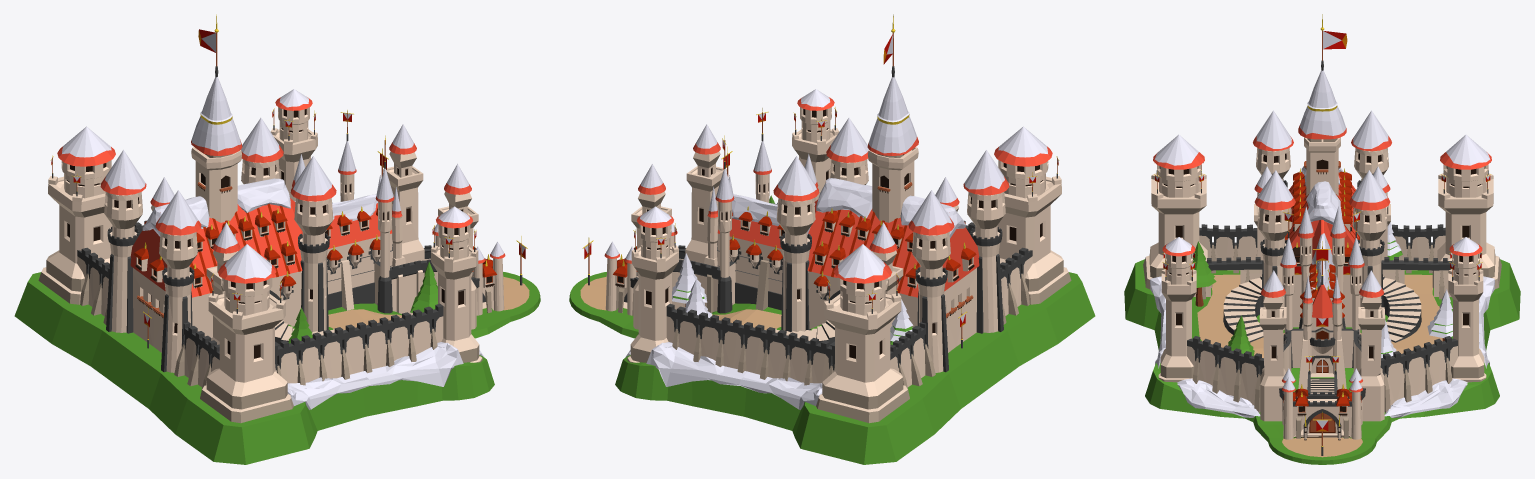
The model's file is castelo1.glb.
3 views of the same model, side by side, from view 1: azimuth 30°, elevation 25°; view 2: azimuth 150°, elevation 25°; view 3: azimuth 270°, elevation 25° (orthographic). The views are drawn at different scales.
Parts seen in each view (by area): view 1: Castle_Medieval_0; view 2: Castle_Medieval_0; view 3: Castle_Medieval_0.
Boxes of the visible parts, left/top/right/bottom form: Castle_Medieval_0: left=14, top=14, right=540, bottom=464; Castle_Medieval_0: left=569, top=14, right=1095, bottom=464; Castle_Medieval_0: left=1124, top=14, right=1520, bottom=464.
Size of what is drawn, in the model's own units: 38 by 30.32 by 34.79.
1 material, 1 textured.
